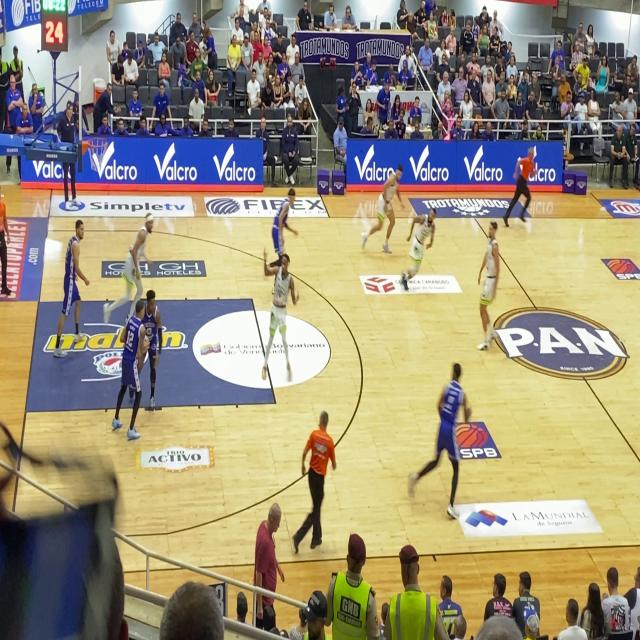referee: (288, 402, 334, 560), (506, 138, 542, 234), (0, 175, 16, 295)
team1: (471, 212, 507, 356), (404, 186, 441, 307), (371, 153, 403, 271), (130, 206, 157, 317)
team2: (428, 352, 472, 515), (110, 294, 146, 435), (54, 204, 86, 343), (137, 280, 165, 399)
ubasket: (86, 138, 109, 171)
